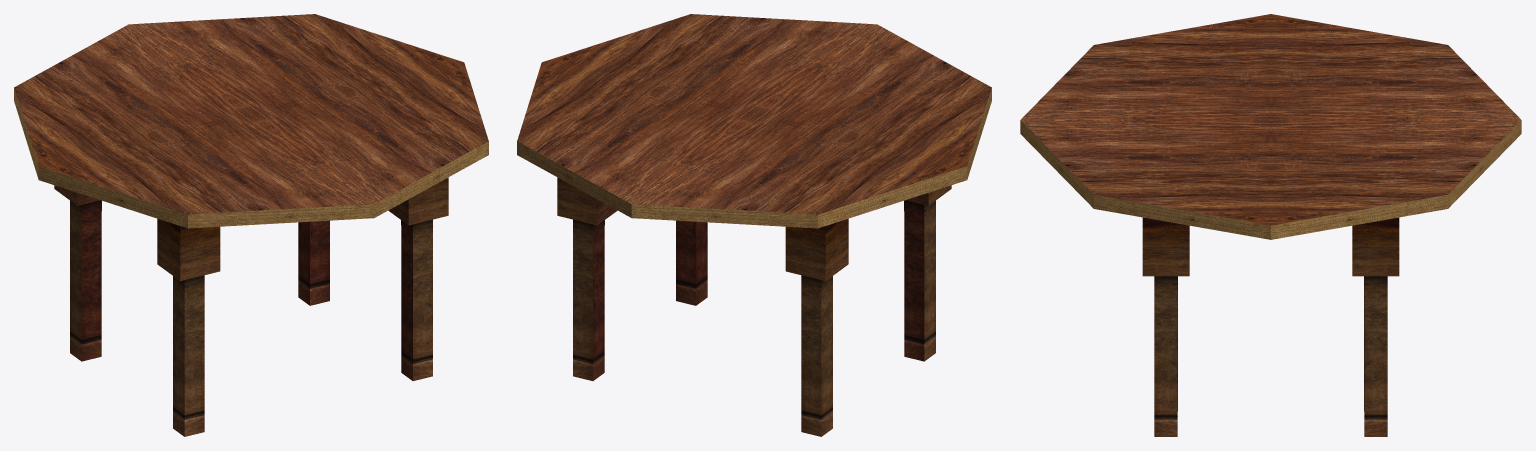
Rendered from mm9_deco_tableround.glb.
3 views of the same model, side by side, from view 1: azimuth 30°, elevation 25°; view 2: azimuth 150°, elevation 25°; view 3: azimuth 270°, elevation 25° (orthographic).
Visible parts, largest first — view 1: Tableround; view 2: Tableround; view 3: Tableround.
Part boxes in pixels (x1,y1,x2,y2): Tableround: (14, 14, 488, 436); Tableround: (517, 14, 991, 436); Tableround: (1020, 14, 1521, 436).
Size of the model in its own units: 2.01 by 1.13 by 2.01.
2 materials, 2 textured.
